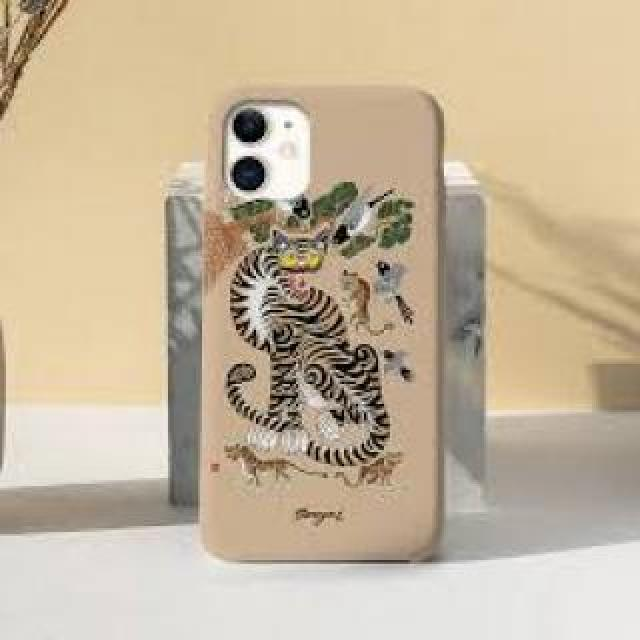smart phone: (190, 62, 447, 573)
